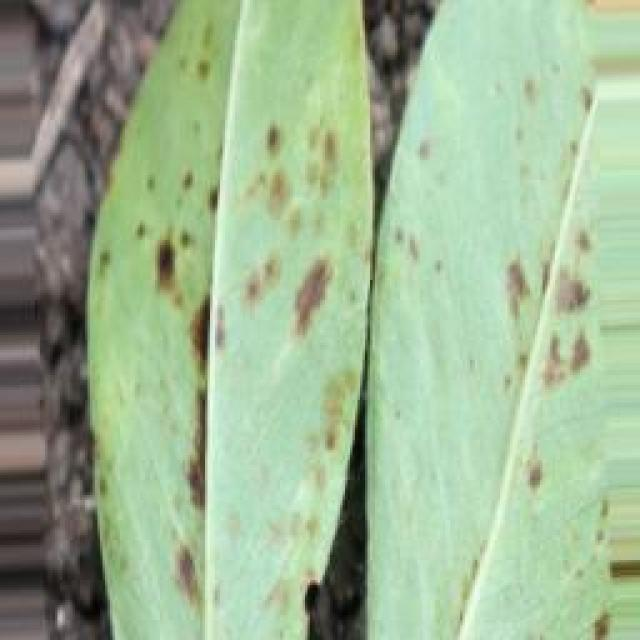Whitefly: (82, 0, 628, 585)
